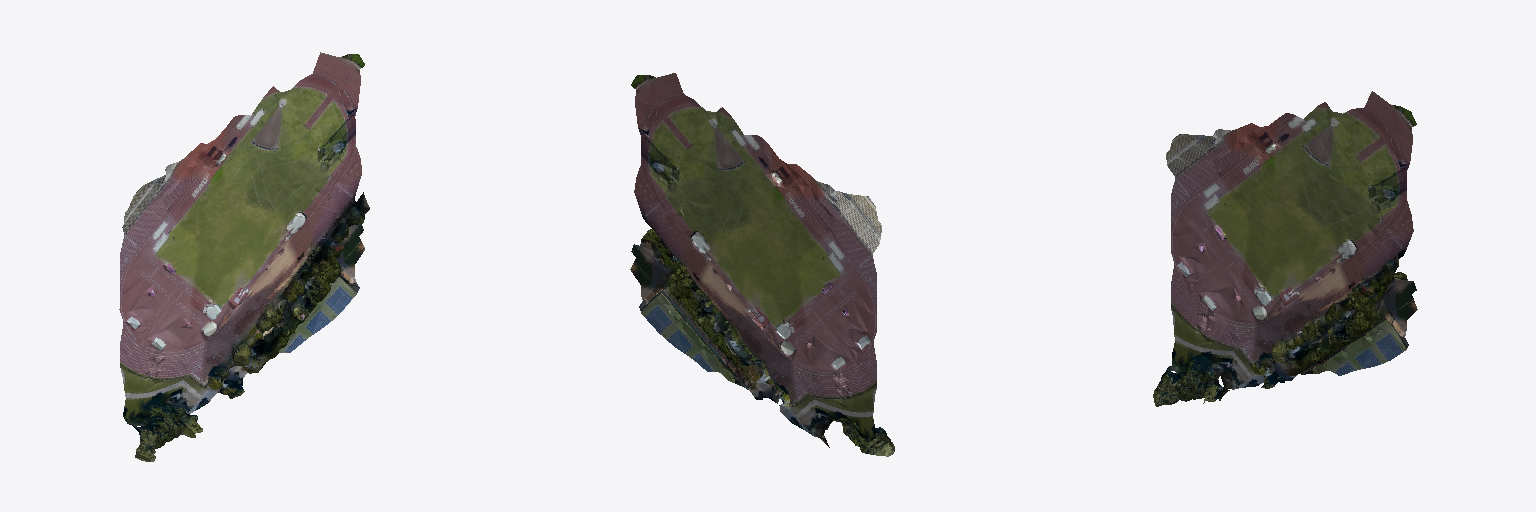
3 renders of one model, left to right at view 1: azimuth 30°, elevation 25°; view 2: azimuth 150°, elevation 25°; view 3: azimuth 330°, elevation 25°, orthographic.
Size of the model in its own units: 137 by 184 by 28.96.
1 materials, 1 textured.